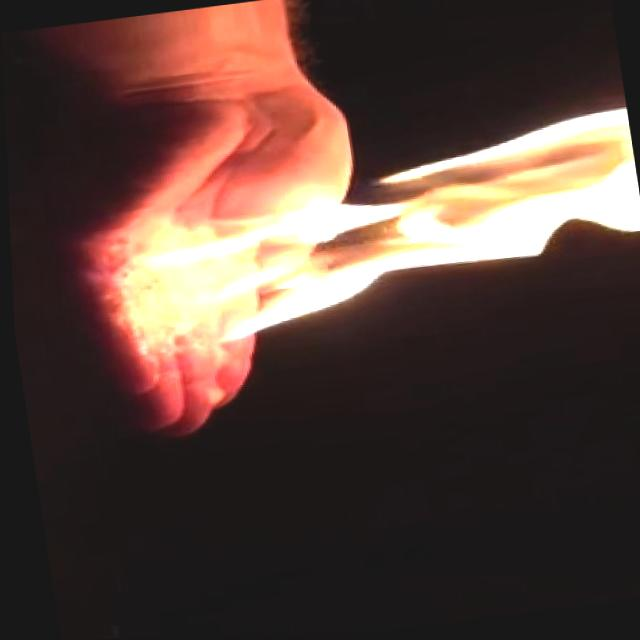Fire: (118, 106, 640, 357)
